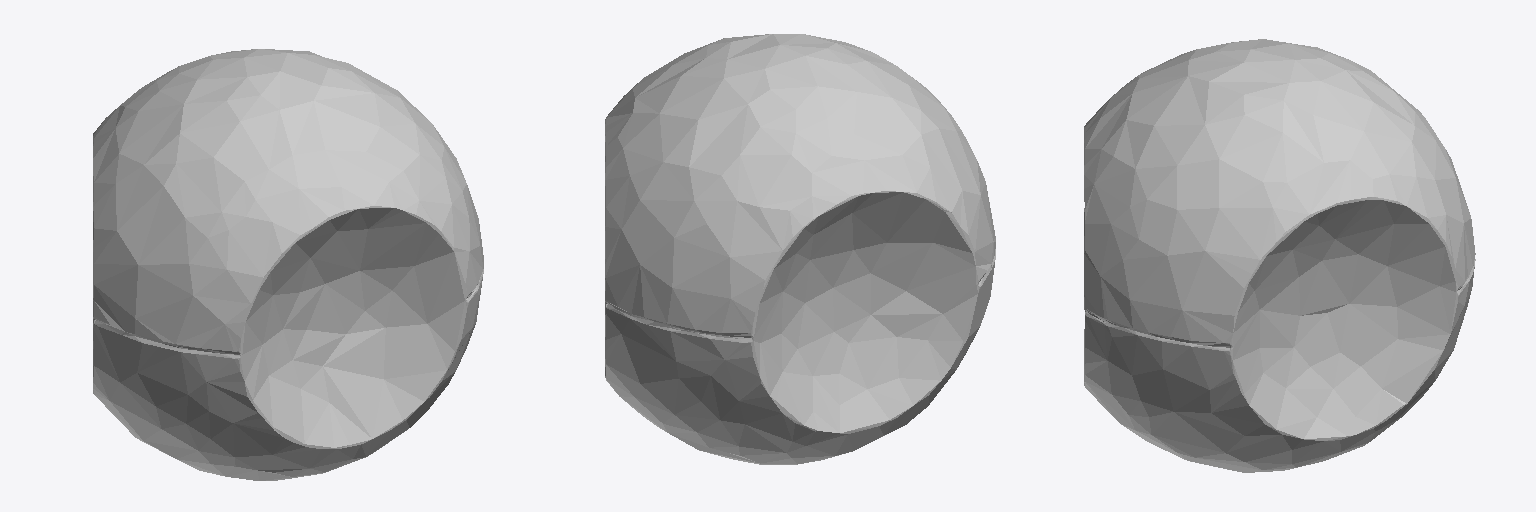
The model's file is quaffle.obj.
3 views of the same model, side by side, from view 1: azimuth 30°, elevation 25°; view 2: azimuth 150°, elevation 25°; view 3: azimuth 270°, elevation 25° (orthographic).
Visible parts, largest first — view 1: polySurface1 _Users_barri_Desktop_Quaffle_Ball_stl; view 2: polySurface1 _Users_barri_Desktop_Quaffle_Ball_stl; view 3: polySurface1 _Users_barri_Desktop_Quaffle_Ball_stl.
Boxes of the visible parts, x1,y1,x2,y2 form: polySurface1 _Users_barri_Desktop_Quaffle_Ball_stl: [93, 49, 483, 480]; polySurface1 _Users_barri_Desktop_Quaffle_Ball_stl: [605, 34, 995, 464]; polySurface1 _Users_barri_Desktop_Quaffle_Ball_stl: [1084, 39, 1475, 472].
Size of the model in its own units: 214 by 215 by 194.